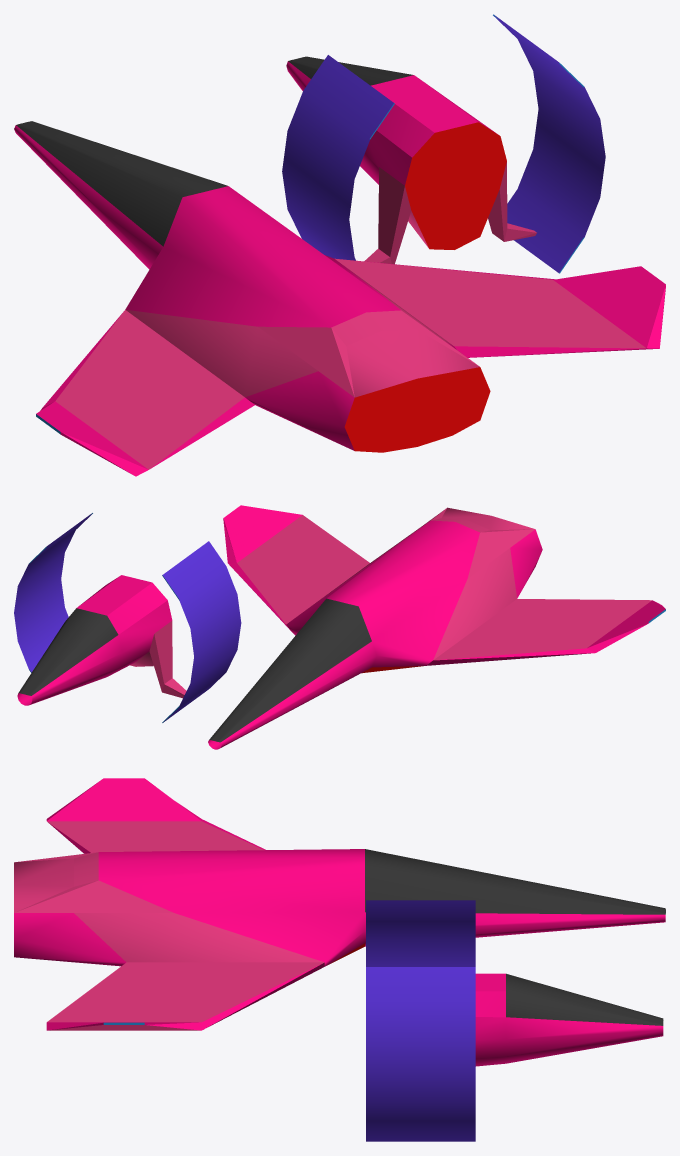
The model's file is Background Ships.FBX.
3 renders of one model, top to bottom at view 1: azimuth 30°, elevation 25°; view 2: azimuth 150°, elevation 25°; view 3: azimuth 270°, elevation 25°, orthographic. The views are drawn at different scales.
Parts seen in each view (by area): view 1: Ship 2, Cylinder001; view 2: Ship 2, Cylinder001; view 3: Ship 2, Cylinder001.
Part boxes in pixels (bbox=[...]): Ship 2: bbox=[14, 121, 665, 476]; Cylinder001: bbox=[282, 14, 605, 273]; Ship 2: bbox=[208, 505, 665, 749]; Cylinder001: bbox=[14, 513, 241, 722]; Ship 2: bbox=[14, 778, 665, 1030]; Cylinder001: bbox=[366, 900, 663, 1141].
Size of the model in its own units: 133 by 38.09 by 129.
